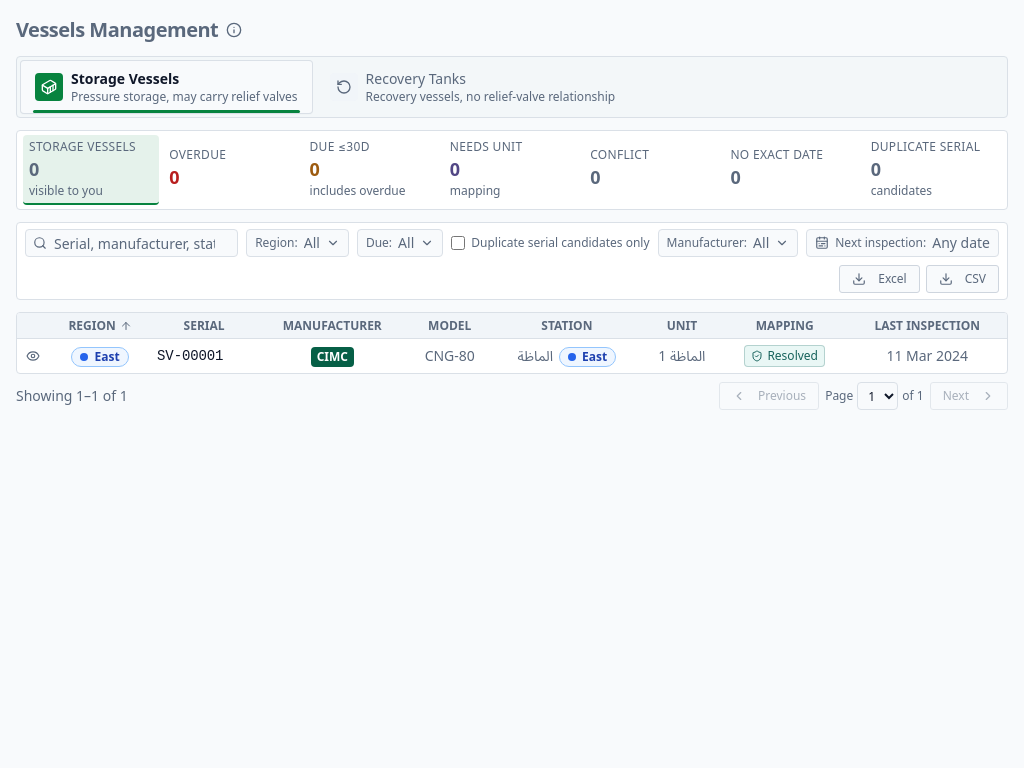
Test: Related SRVs › reports a failed related-SRV query rather than showing "no valves"
Click the button named "show the full technical record" at (33, 356), box top-left (23, 346), bottom-right (43, 366)
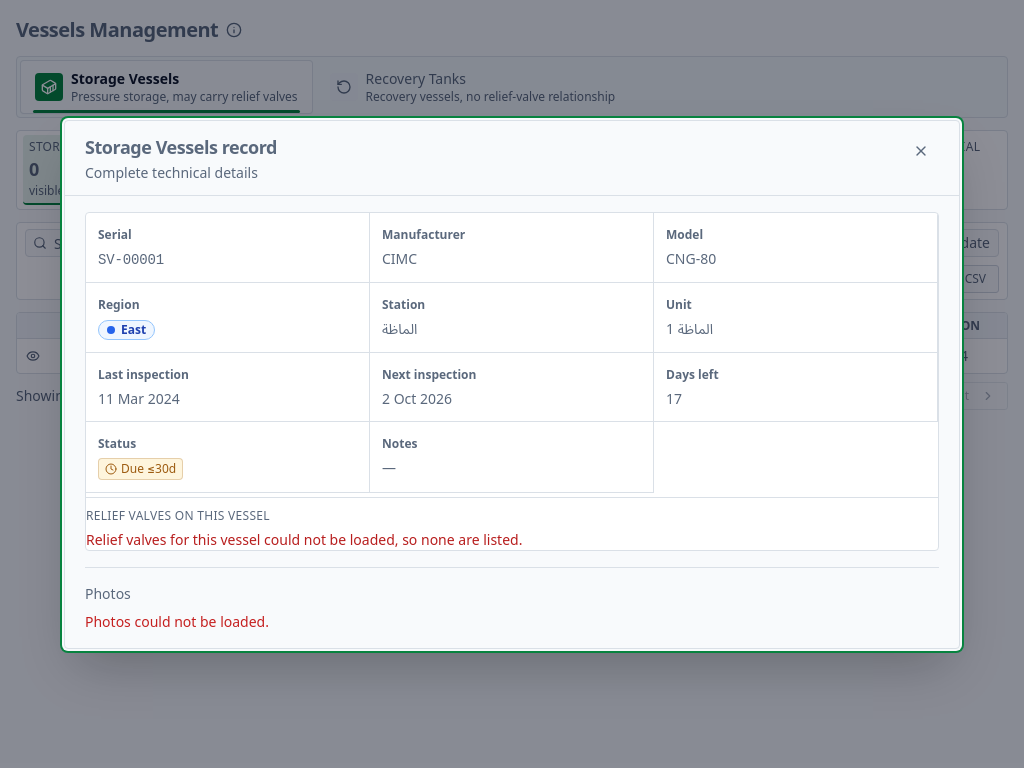
Expected: the text "could not be loaded, so none are listed" is shown, top-left (86, 530), bottom-right (522, 548)
